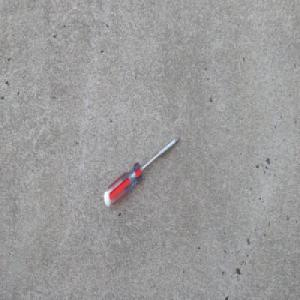Screwdriver: (102, 134, 180, 207)
